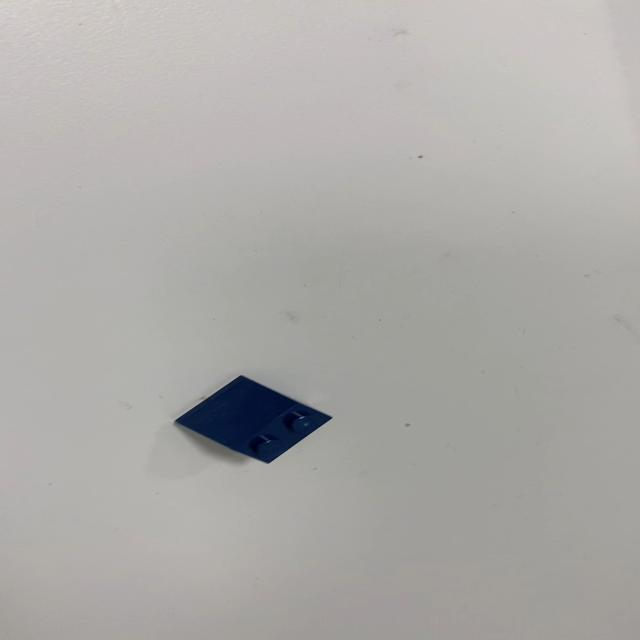P2x2x1: (172, 374, 334, 464)
